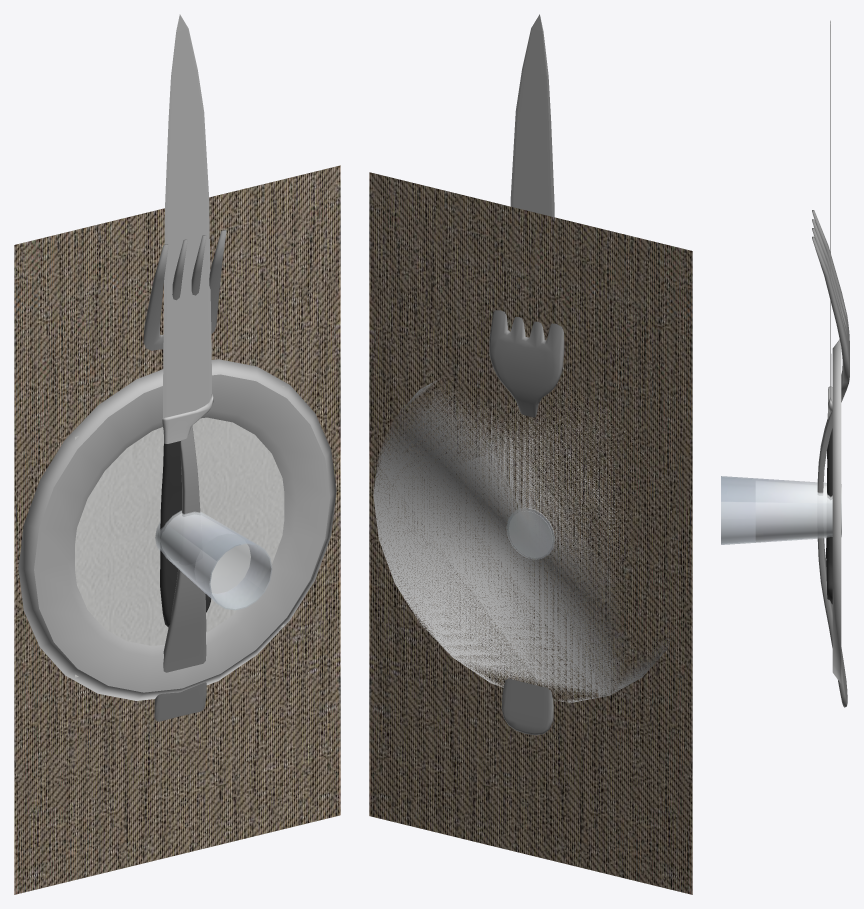
Rendered from low-poly-tableware-7e3aeb.glb.
3 views of the same model, side by side, from view 1: azimuth 30°, elevation 25°; view 2: azimuth 150°, elevation 25°; view 3: azimuth 270°, elevation 25° (orthographic). The views are drawn at different scales.
Parts seen in each view (by area): view 1: PropMesh; view 2: PropMesh; view 3: PropMesh.
Boxes of the visible parts, <box> form: PropMesh: <box>14,14,340,894</box>; PropMesh: <box>369,14,692,894</box>; PropMesh: <box>721,20,849,707</box>.
Bounding box in the file's own units: 0.888 × 2.2 × 0.3198.
9 materials, 3 textured.
